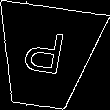P_S: (22, 29, 71, 85)
